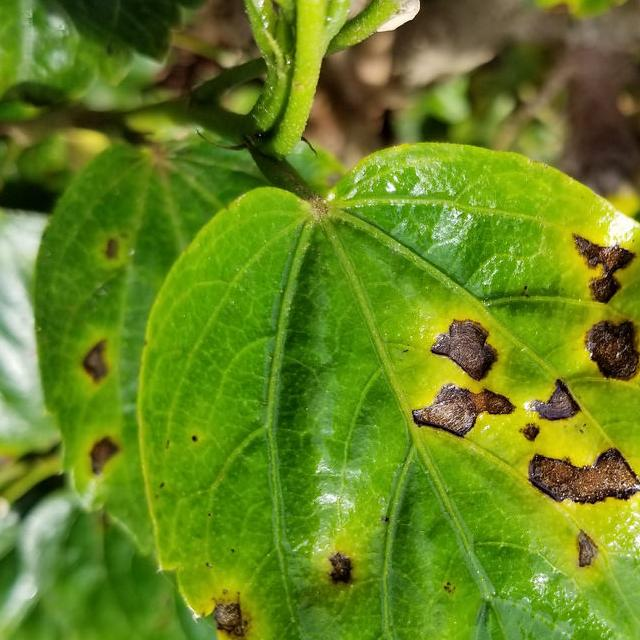Tomato leaf bacterial spot: (147, 141, 640, 640)
